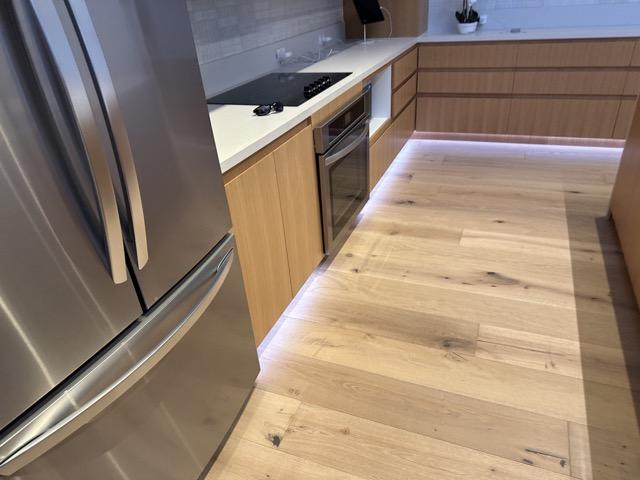Sunglasses: (250, 102, 285, 115)
